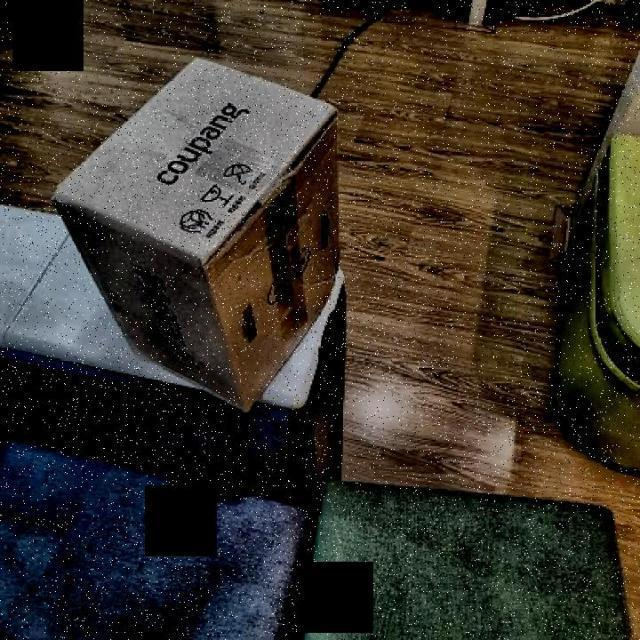box: (44, 49, 356, 422)
